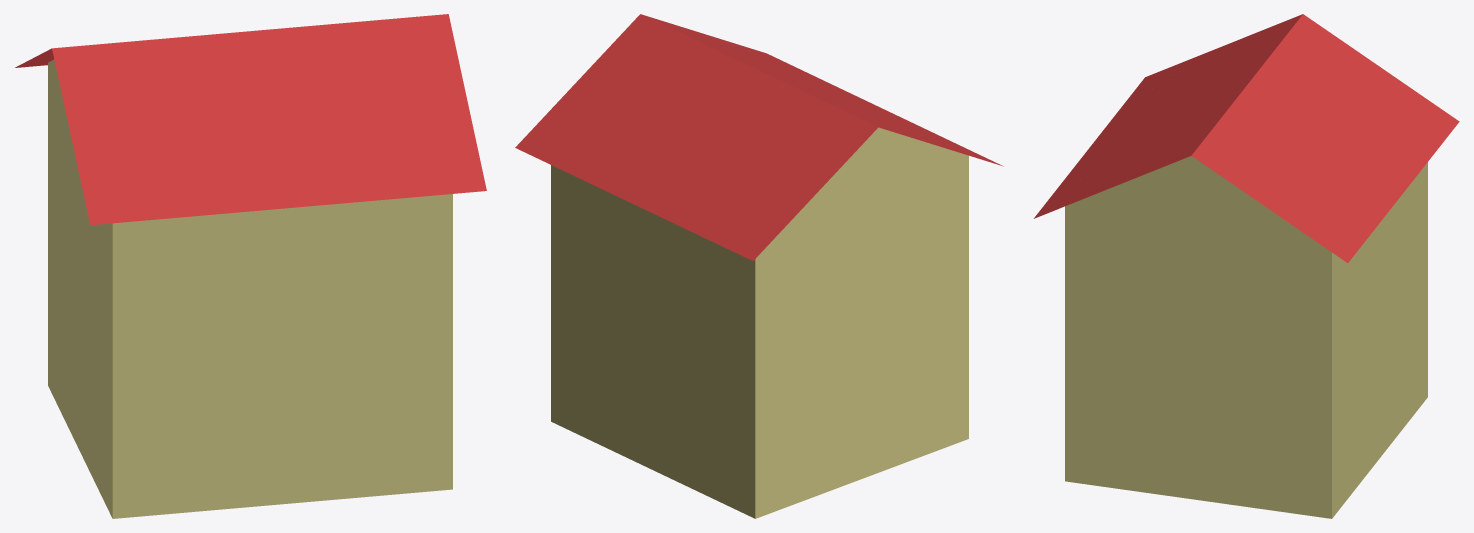
3 views of the same model, side by side, from view 1: azimuth 30°, elevation 25°; view 2: azimuth 150°, elevation 25°; view 3: azimuth 270°, elevation 25° (orthographic). The views are drawn at different scales.
Size of the model in its own units: 13.15 by 12.73 by 11.68.
